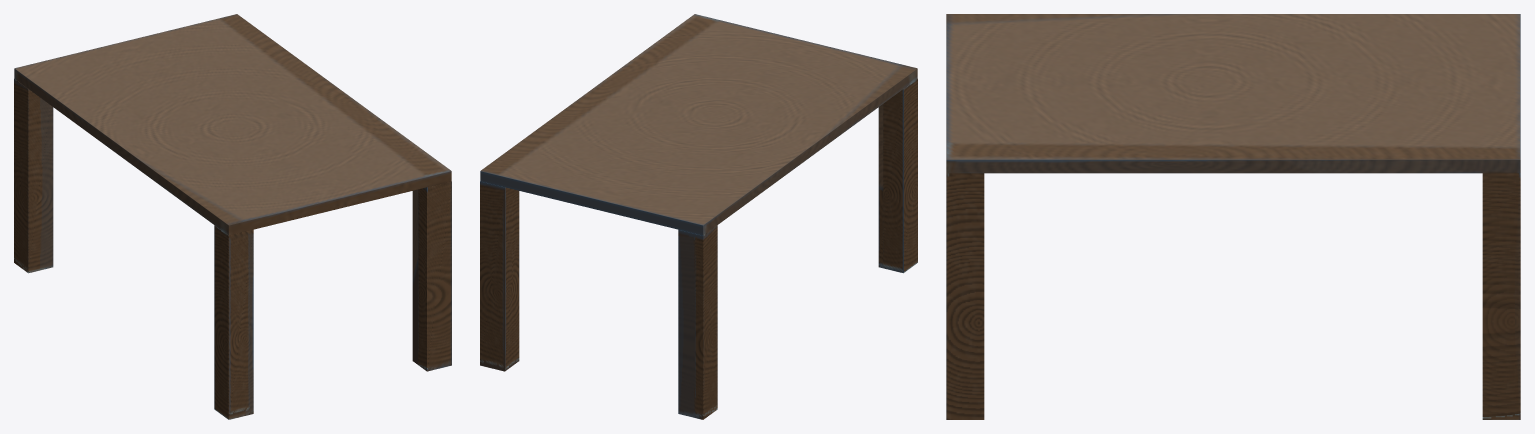
Rendered from dining-table-6.glb.
3 renders of one model, left to right at view 1: azimuth 30°, elevation 25°; view 2: azimuth 150°, elevation 25°; view 3: azimuth 270°, elevation 25°, orthographic. The views are drawn at different scales.
Visible parts, largest first — view 1: Object_6; view 2: Object_6; view 3: Object_6.
Part boxes in pixels (x1,y1,x2,y2): Object_6: (14,14,451,419); Object_6: (480,14,917,419); Object_6: (946,14,1520,419).
Bounding box in the file's own units: 0.00675 × 0.00562 × 0.0112.
5 materials, 5 textured.
